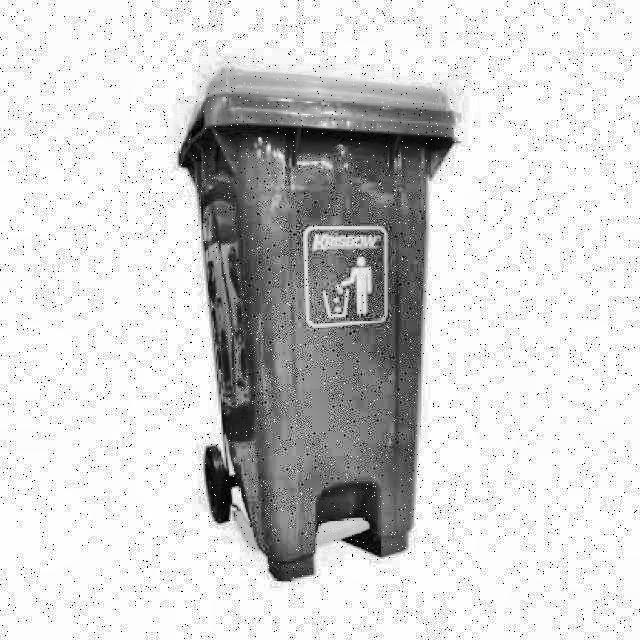Dustbin: (136, 57, 509, 591)
